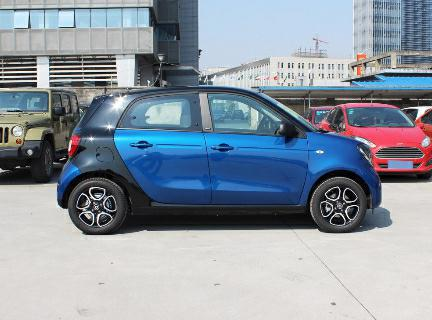smart-forfour: (44, 88, 392, 231)
